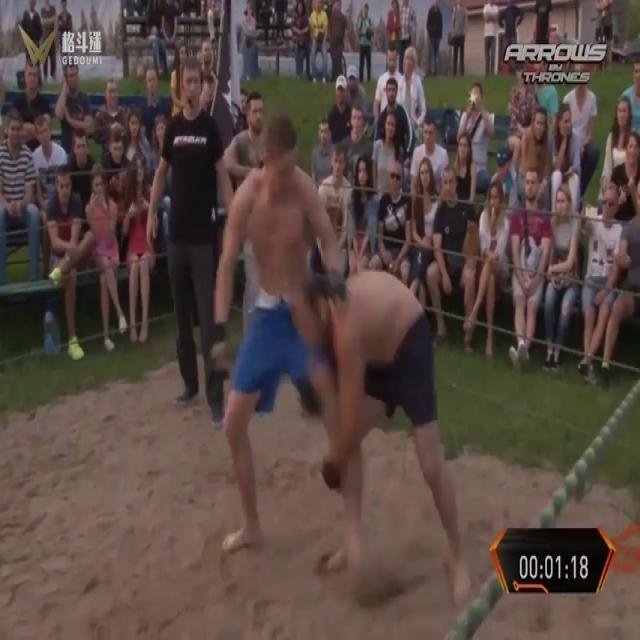fight: (191, 116, 473, 615)
non-fight: (154, 54, 230, 418), (42, 158, 95, 362), (578, 179, 629, 381), (467, 176, 514, 364), (371, 87, 408, 205), (52, 57, 93, 159), (459, 82, 494, 182), (518, 104, 554, 200), (92, 73, 128, 167), (337, 101, 373, 192), (410, 114, 447, 202), (552, 104, 583, 205), (290, 0, 315, 79), (479, 0, 505, 75), (325, 0, 347, 81), (354, 2, 376, 82), (618, 57, 639, 140), (447, 0, 470, 75), (423, 0, 446, 75), (386, 0, 408, 72), (269, 0, 290, 41)
